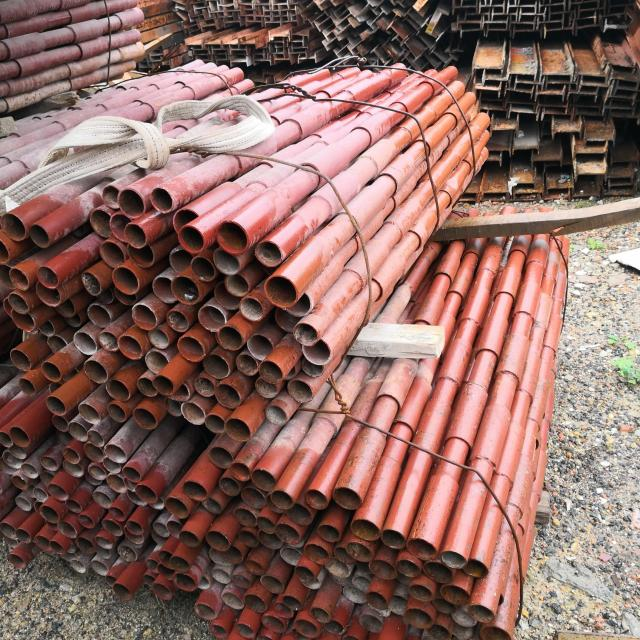pipe: (214, 218, 249, 256), (263, 274, 298, 308), (116, 187, 147, 219), (170, 273, 200, 306), (111, 264, 140, 296), (176, 224, 206, 254), (253, 238, 283, 268), (213, 280, 243, 310), (197, 304, 228, 333), (300, 338, 332, 366), (126, 240, 156, 269), (98, 239, 126, 270), (88, 206, 114, 239), (213, 381, 242, 410), (0, 212, 28, 242), (212, 248, 242, 276), (246, 332, 274, 362), (176, 335, 206, 363), (108, 211, 133, 244), (150, 275, 178, 304), (349, 518, 382, 542), (148, 186, 176, 214), (116, 333, 144, 361), (34, 280, 62, 308), (130, 302, 157, 331), (273, 306, 302, 333), (215, 324, 244, 351), (406, 537, 438, 561), (172, 208, 200, 235), (285, 291, 313, 318), (202, 353, 230, 380), (330, 487, 362, 510), (422, 561, 454, 584), (82, 358, 109, 385), (190, 255, 216, 283), (237, 296, 265, 322), (223, 417, 251, 443), (122, 222, 148, 249), (86, 302, 112, 329), (168, 248, 195, 274), (258, 358, 284, 385), (344, 540, 374, 563), (72, 330, 98, 356), (224, 272, 250, 298), (292, 322, 319, 347), (287, 379, 314, 404), (286, 502, 313, 527), (130, 407, 158, 431), (404, 608, 434, 630), (367, 559, 398, 580), (35, 264, 60, 290), (11, 307, 36, 333), (76, 401, 102, 426), (143, 349, 169, 374), (180, 401, 206, 426), (7, 265, 31, 292), (104, 378, 131, 402), (250, 468, 277, 492), (240, 486, 267, 510), (273, 522, 302, 544), (440, 585, 470, 606), (8, 346, 32, 372), (208, 446, 234, 470), (304, 542, 330, 566), (29, 222, 51, 250), (323, 556, 351, 578), (146, 326, 170, 351), (164, 495, 189, 519), (254, 376, 280, 399), (380, 528, 407, 550), (440, 549, 468, 570), (166, 308, 190, 332), (235, 353, 259, 377), (7, 290, 30, 315), (80, 270, 102, 296), (232, 506, 258, 528), (101, 183, 122, 210), (182, 480, 209, 501), (257, 529, 284, 550), (293, 618, 321, 638), (468, 604, 496, 624), (263, 404, 288, 426), (205, 530, 230, 552), (8, 425, 31, 448), (66, 420, 89, 443), (193, 375, 216, 398), (151, 374, 175, 396), (304, 488, 328, 510), (113, 285, 138, 306), (300, 357, 325, 378), (102, 444, 128, 464), (192, 601, 218, 621), (260, 613, 286, 633), (342, 584, 368, 604), (394, 558, 420, 578), (462, 558, 488, 578), (451, 608, 477, 628), (479, 625, 513, 640), (53, 296, 76, 318), (96, 330, 119, 352), (203, 412, 226, 434), (82, 442, 106, 463), (270, 489, 294, 510), (243, 593, 267, 614), (316, 524, 341, 544), (172, 572, 197, 592), (358, 614, 383, 634), (259, 575, 285, 594), (408, 583, 434, 602), (40, 360, 62, 382), (46, 333, 68, 355), (62, 457, 84, 479), (106, 402, 128, 424), (46, 481, 69, 502), (100, 518, 124, 538), (208, 547, 232, 567), (220, 591, 245, 610), (332, 545, 357, 564), (431, 597, 457, 615), (56, 520, 79, 540), (134, 484, 157, 504), (229, 462, 252, 482), (219, 546, 244, 564), (0, 264, 17, 290), (45, 395, 66, 416), (17, 376, 37, 398), (2, 450, 24, 470), (136, 377, 158, 397), (218, 477, 240, 497), (123, 525, 145, 545), (111, 582, 133, 602), (201, 496, 223, 516), (388, 594, 408, 616), (365, 591, 388, 610), (166, 383, 190, 401), (39, 504, 60, 524), (106, 474, 127, 494), (91, 490, 113, 509), (116, 544, 138, 563), (157, 549, 176, 571), (280, 547, 302, 566), (294, 565, 316, 584), (308, 606, 332, 623), (427, 623, 451, 640), (61, 445, 81, 465), (32, 532, 52, 552), (265, 493, 285, 513), (256, 514, 276, 534), (86, 427, 105, 448), (151, 582, 172, 601), (120, 465, 142, 483), (169, 555, 191, 573), (237, 530, 259, 548), (328, 570, 352, 586), (367, 602, 391, 618), (450, 622, 474, 638), (36, 318, 56, 337), (50, 413, 70, 432), (164, 398, 183, 418), (282, 594, 303, 612), (273, 601, 294, 619), (125, 489, 147, 506), (178, 530, 200, 547), (234, 622, 256, 639), (165, 520, 184, 539), (156, 562, 175, 581), (39, 454, 59, 472), (0, 520, 18, 540), (75, 536, 95, 554), (89, 559, 109, 577), (243, 559, 264, 576), (230, 574, 252, 590), (322, 620, 344, 636), (7, 552, 26, 570), (102, 456, 121, 474), (10, 473, 28, 492), (7, 444, 27, 461), (87, 464, 107, 481), (124, 519, 144, 536), (14, 494, 32, 512), (48, 538, 66, 556), (352, 575, 371, 592), (0, 234, 10, 266), (211, 568, 231, 584), (208, 623, 228, 639), (2, 296, 16, 318), (300, 576, 322, 590), (64, 311, 82, 328), (20, 462, 38, 479), (14, 527, 32, 544), (77, 513, 95, 530), (152, 521, 170, 538), (38, 469, 55, 486), (32, 486, 49, 503), (64, 498, 82, 514), (108, 506, 126, 522), (94, 544, 112, 560), (147, 494, 165, 510), (150, 530, 168, 546), (95, 535, 114, 550), (48, 379, 66, 394), (69, 559, 87, 574), (21, 483, 39, 498), (0, 429, 14, 448), (144, 558, 160, 574), (355, 560, 373, 574), (84, 473, 103, 486), (0, 536, 20, 548), (122, 477, 136, 492), (103, 573, 118, 587), (396, 572, 411, 586), (197, 575, 210, 590), (60, 551, 77, 562), (143, 573, 155, 587), (32, 499, 43, 512)
